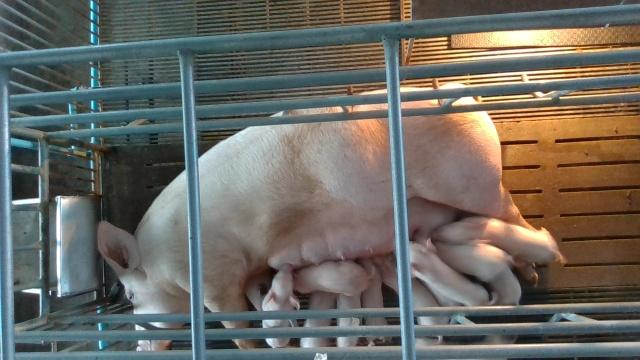piglet: (434, 216, 565, 264), (409, 238, 498, 307), (436, 243, 521, 306), (376, 253, 449, 325), (263, 263, 299, 349), (292, 259, 374, 295), (361, 257, 392, 346), (299, 291, 337, 347), (336, 293, 361, 347)
sow-sleep-lactate: (98, 84, 539, 350)
